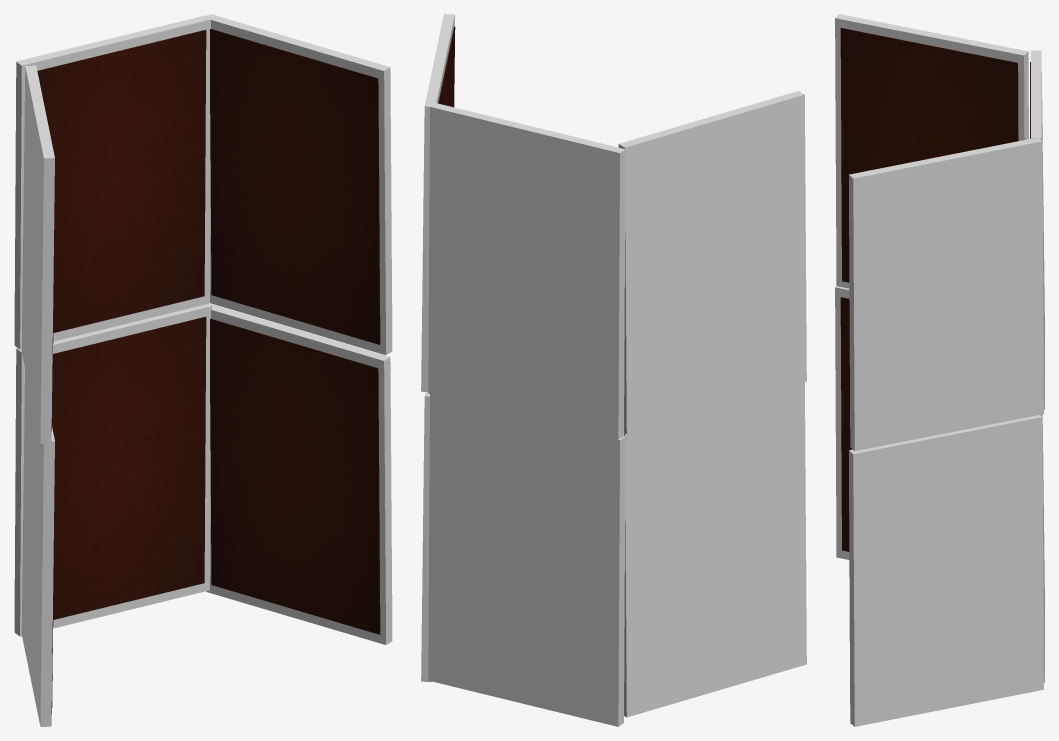
The model's file is Great squares.FBX.
The picture shows the model from 3 angles, left to right: view 1: azimuth 30°, elevation 25°; view 2: azimuth 150°, elevation 25°; view 3: azimuth 270°, elevation 25°; orthographic projection. The views are drawn at different scales.
Parts seen in each view (by area): view 1: Box005, Box007, Box003, Box012, Box002, Box011, Box004, Box006, Box008, Box013; view 2: Box004, Box013, Box002, Box011, Box006, Box008, Box005; view 3: Box006, Box008, Box001, Box002, Box010, Box011, Box004, Box013.
Boxes of the visible parts, box(x1,y1,x2,y2) form: Box005: box(210, 29, 380, 344); Box007: box(210, 319, 380, 634); Box003: box(37, 30, 206, 332); Box012: box(52, 316, 206, 619); Box002: box(21, 65, 54, 443); Box011: box(21, 368, 54, 726); Box004: box(14, 15, 211, 349); Box006: box(208, 14, 392, 354); Box008: box(206, 304, 392, 644); Box013: box(14, 304, 211, 636); Box004: box(428, 103, 625, 439); Box013: box(428, 394, 625, 726); Box002: box(618, 91, 806, 434); Box011: box(624, 382, 806, 717); Box006: box(421, 14, 454, 391); Box008: box(421, 392, 431, 682); Box005: box(438, 26, 455, 107); Box006: box(849, 139, 1043, 450); Box008: box(849, 415, 1043, 726); Box001: box(840, 28, 1018, 282); Box002: box(835, 14, 1028, 288); Box010: box(840, 297, 852, 551); Box011: box(835, 286, 849, 559); Box004: box(1031, 50, 1044, 409); Box013: box(1040, 414, 1044, 682).
Bounding box in the file's own units: 82.94 × 127 × 44.12.
